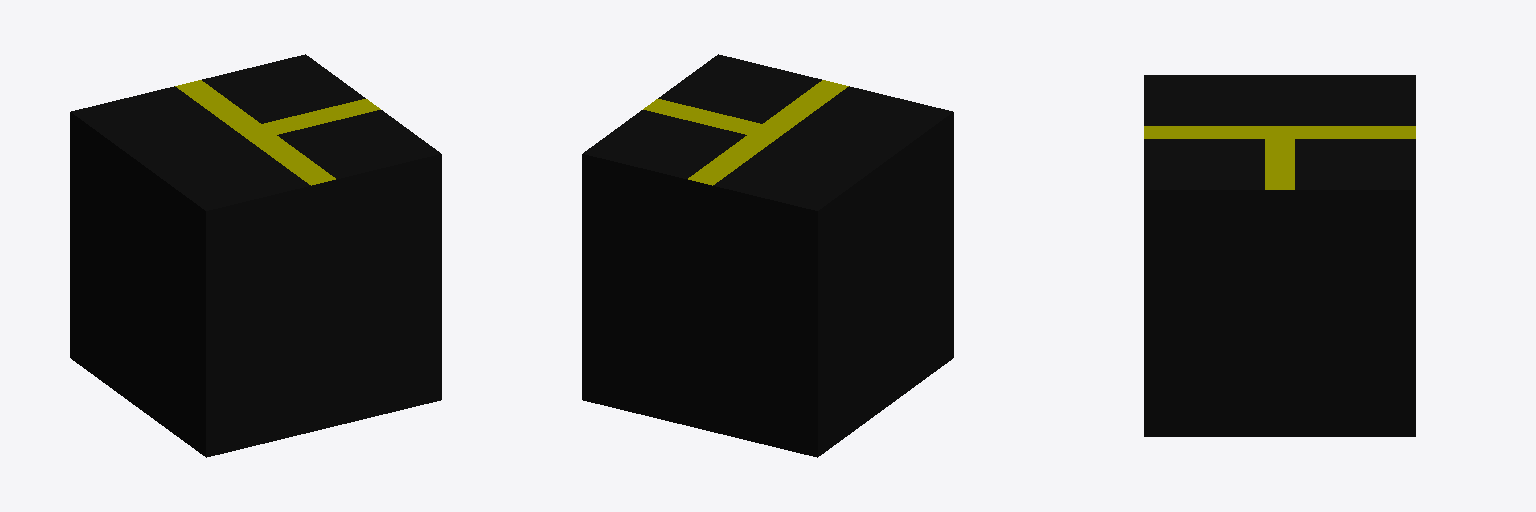
Rendered from BlackCubeTee.obj.
3 renders of one model, left to right at view 1: azimuth 30°, elevation 25°; view 2: azimuth 150°, elevation 25°; view 3: azimuth 270°, elevation 25°, orthographic.
Visible parts, largest first — view 1: Cube; view 2: Cube; view 3: Cube.
Part boxes in pixels (bbox=[...]): Cube: bbox=[70, 54, 441, 457]; Cube: bbox=[582, 54, 953, 457]; Cube: bbox=[1144, 75, 1415, 436].
Size of the model in its own units: 2 by 2 by 2.